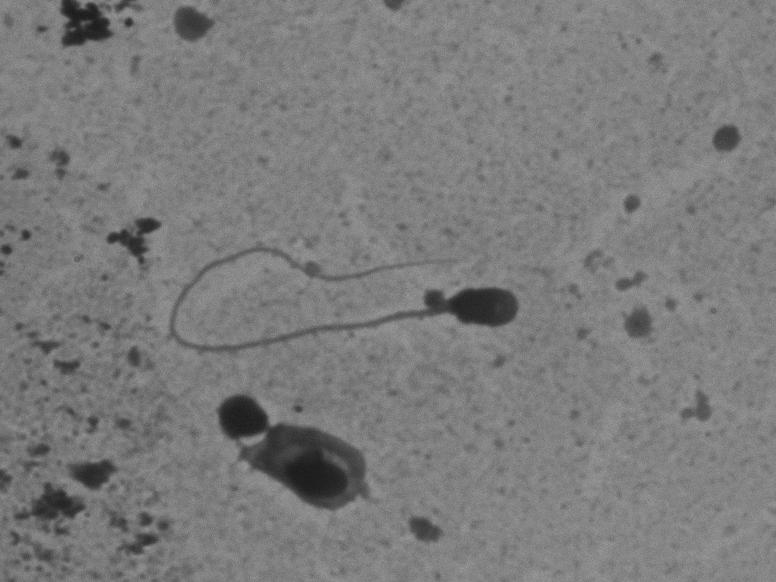Abnormal: (156, 210, 540, 364), (196, 386, 397, 546)
